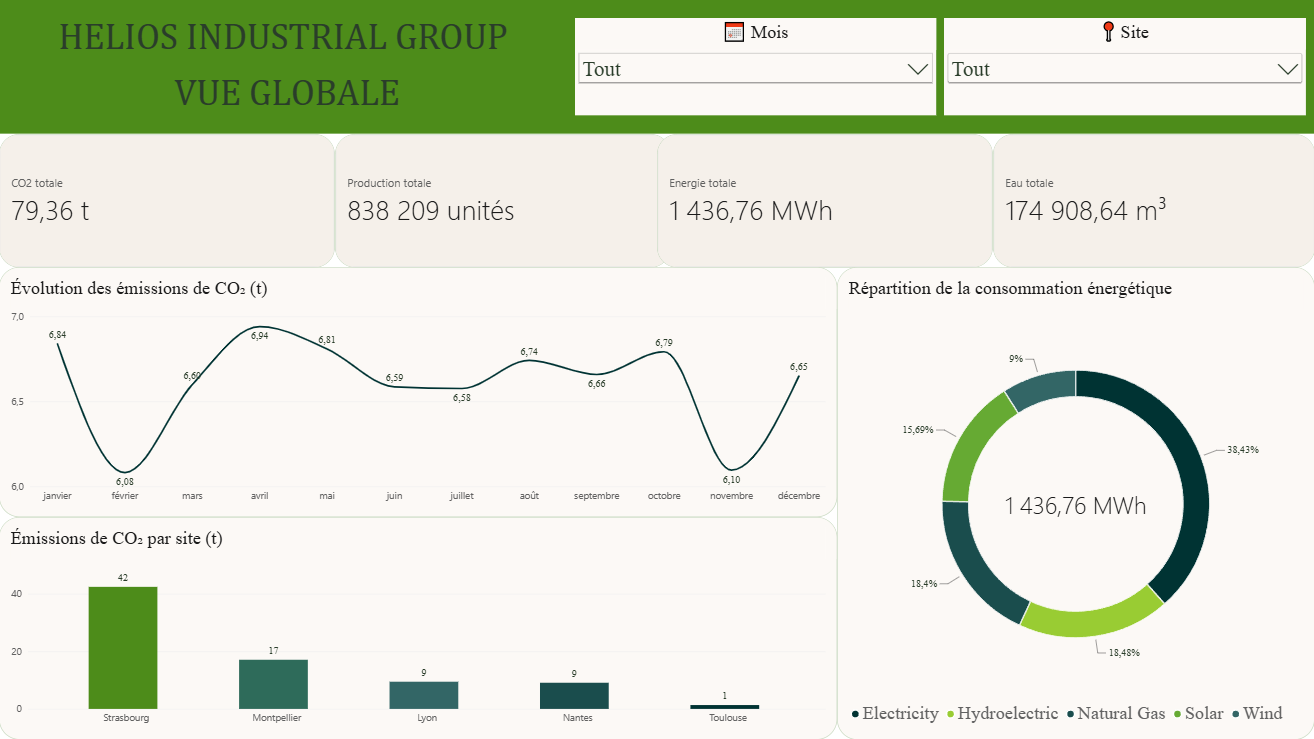

Layout of this report page (visuals, bound fields, positions):
{"tool":"powerbi","page":{"name":"VUE GLOBALE","canvas":[1920,1080],"ordinal":0},"visuals":[{"type":"textbox","box":[0,0,1920,195],"z":0},{"type":"textbox","box":[0,26.3,840.4,153.2],"z":1000},{"type":"slicer","title":"📅 Mois","fields":{"Values":["dim_date.Mois"]},"box":[840,26.7,526.7,141.7],"z":2000},{"type":"slicer","title":"📍 Site","fields":{"Values":["site.site_name"]},"box":[1378.3,26.7,528.3,141.7],"z":3000},{"type":"cardVisual","fields":{"Data":["Mesures.CO2 KPI"]},"box":[0,195,490,195],"z":4000},{"type":"cardVisual","fields":{"Data":["Mesures.Production totale"]},"box":[490,195,490,195],"z":5000},{"type":"cardVisual","fields":{"Data":["Mesures.Energie totale"]},"box":[960,195,490,195],"z":6000},{"type":"cardVisual","fields":{"Data":["Mesures.Eau totale"]},"box":[1450,195,470,195],"z":7000},{"type":"lineChart","title":"Évolution des émissions de CO₂ (t)","fields":{"Category":["dim_date.Mois"],"Y":["Mesures.CO2 par Mois (t)"]},"box":[0,390,1223.3,365],"z":8000},{"type":"columnChart","title":"Émissions de CO₂ par site (t)","fields":{"Category":["site.city"],"Y":["Mesures.CO2 par Mois (t)"]},"box":[0,755,1223.3,325],"z":9000},{"type":"donutChart","title":"Répartition de la consommation énergétique","fields":{"Category":["energy_source.energy_source_name"],"Y":["Mesures.Consommation Energie MWh"]},"box":[1223.3,390,696.7,690],"z":10000}]}

Visuals, with their boxes in screenshot pixels (x1, y1, x2, y2), scaled from the page's 1920x1080 canvas onto the 1314x739 screenshot:
textbox: box=[0, 0, 1313, 133]
textbox: box=[0, 18, 575, 123]
"📅 Mois" slicer: box=[575, 18, 935, 115]
"📍 Site" slicer: box=[943, 18, 1305, 115]
cardVisual - Mesures.CO2 KPI: box=[0, 133, 335, 267]
cardVisual - Mesures.Production totale: box=[335, 133, 671, 267]
cardVisual - Mesures.Energie totale: box=[657, 133, 992, 267]
cardVisual - Mesures.Eau totale: box=[992, 133, 1313, 267]
"Évolution des émissions de CO₂ (t)" lineChart: box=[0, 267, 837, 517]
"Émissions de CO₂ par site (t)" columnChart: box=[0, 517, 837, 738]
"Répartition de la consommation énergétique" donutChart: box=[837, 267, 1313, 738]
